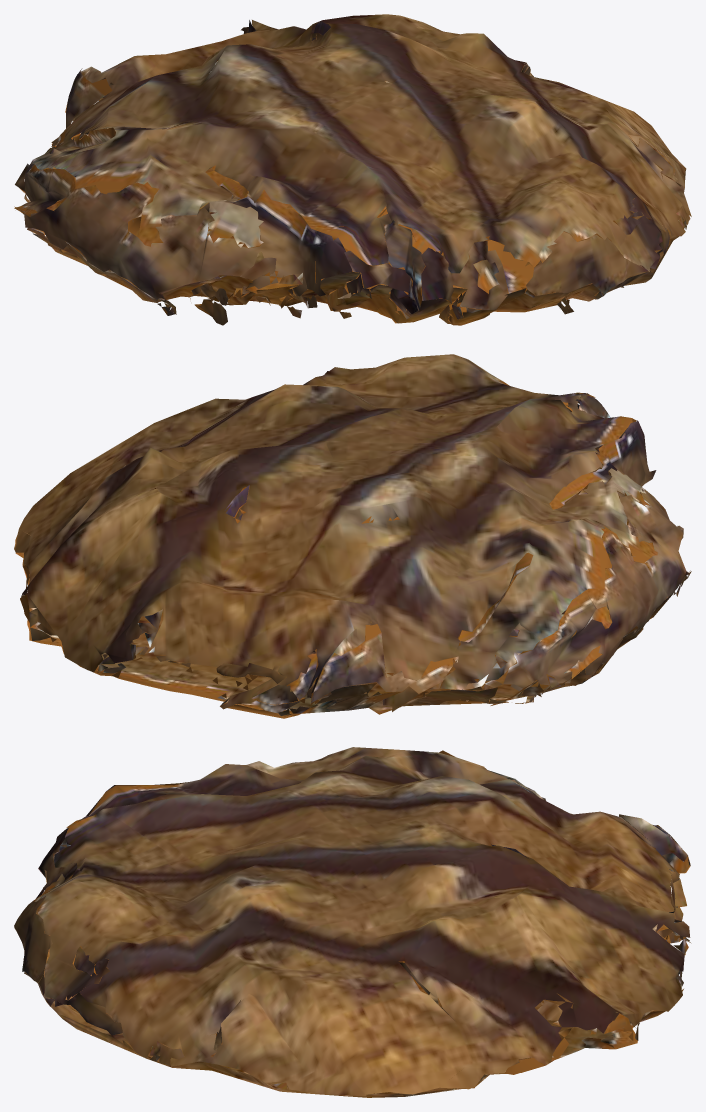
File: brown-butter-nutella-stuffed-pumpkin-chocolate-chip-cookie.gltf
The picture shows the model from 3 angles, top to bottom: view 1: azimuth 30°, elevation 25°; view 2: azimuth 150°, elevation 25°; view 3: azimuth 270°, elevation 25°; orthographic projection. The views are drawn at different scales.
Parts seen in each view (by area): view 1: model_New Qlone_20211216_161319755; view 2: model_New Qlone_20211216_161319755; view 3: model_New Qlone_20211216_161319755.
Boxes of the visible parts, x1=… form: model_New Qlone_20211216_161319755: x1=14, y1=14, x2=691, y2=325; model_New Qlone_20211216_161319755: x1=14, y1=354, x2=691, y2=718; model_New Qlone_20211216_161319755: x1=14, y1=747, x2=691, y2=1097.
Size of the model in its own units: 7.05 by 1.59 by 7.1.
1 material, 1 textured.
